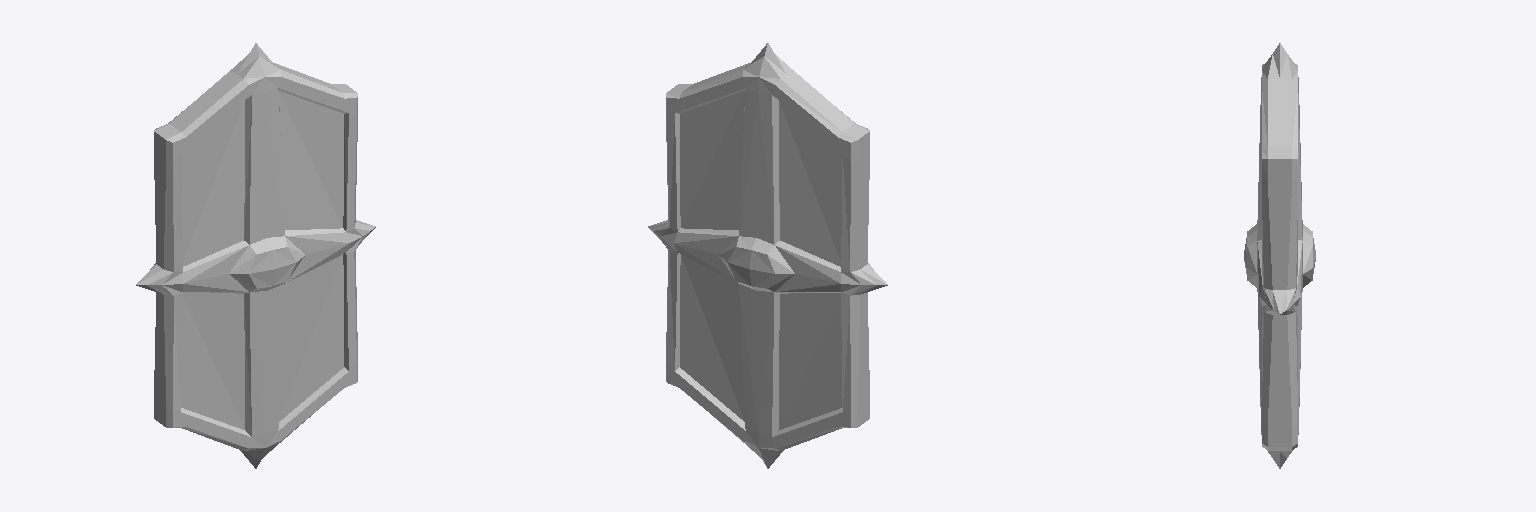
File: Hexagon.obj
3 renders of one model, left to right at view 1: azimuth 30°, elevation 25°; view 2: azimuth 150°, elevation 25°; view 3: azimuth 270°, elevation 25°, orthographic.
Parts seen in each view (by area): view 1: Hexagon_Plane.005; view 2: Hexagon_Plane.005; view 3: Hexagon_Plane.005.
Part boxes in pixels (bbox=[...]): Hexagon_Plane.005: bbox=[136, 43, 375, 468]; Hexagon_Plane.005: bbox=[648, 43, 887, 468]; Hexagon_Plane.005: bbox=[1244, 43, 1315, 468].
Bounding box in the file's own units: 0.9955 × 1.69 × 0.2614.